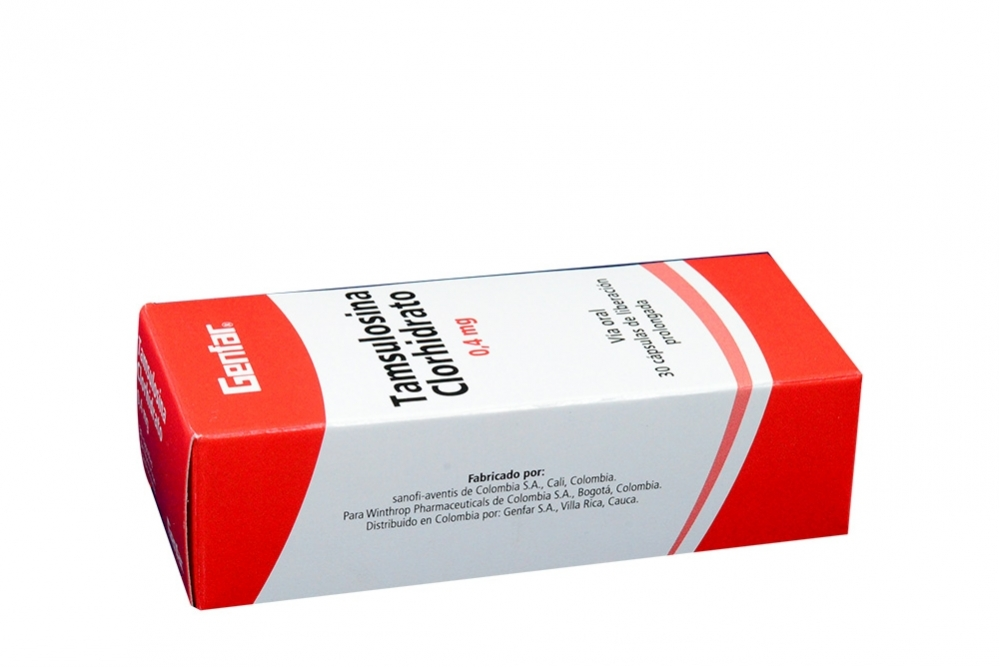Genfar: (154, 253, 859, 437)
